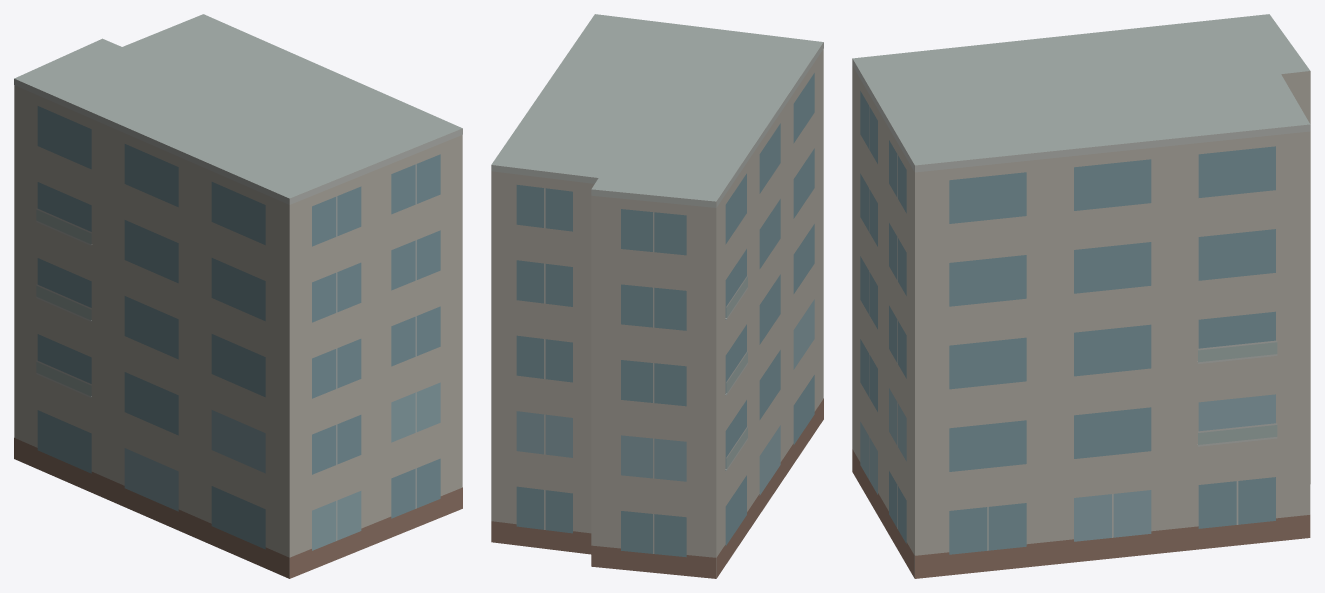
File: survey-upis-32642188.glb
3 views of the same model, side by side, from view 1: azimuth 30°, elevation 25°; view 2: azimuth 150°, elevation 25°; view 3: azimuth 270°, elevation 25° (orthographic). The views are drawn at different scales.
Parts seen in each view (by area): view 1: survey-upis-32642188.tmp; view 2: survey-upis-32642188.tmp; view 3: survey-upis-32642188.tmp.
Boxes of the visible parts, box(x1,y1,x2,y2) form: survey-upis-32642188.tmp: box(14, 14, 462, 578); survey-upis-32642188.tmp: box(491, 14, 823, 578); survey-upis-32642188.tmp: box(852, 14, 1310, 578).
Bounding box in the file's own units: 11.37 × 14.45 × 14.52.
